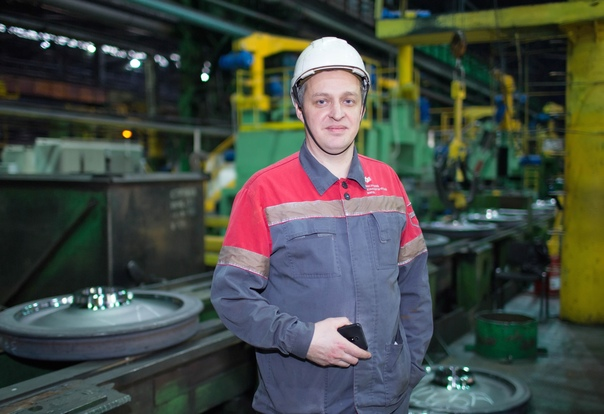person: (209, 37, 434, 414)
